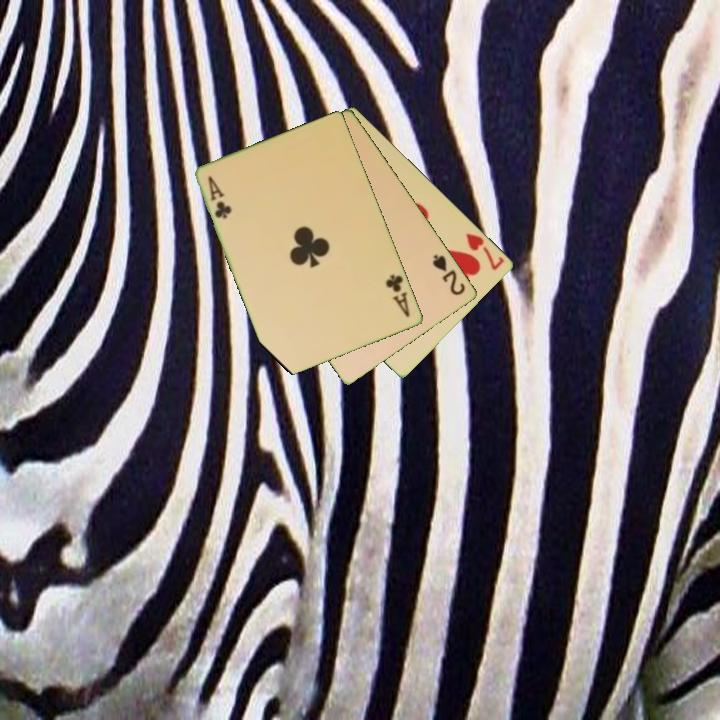2s: (429, 251, 469, 298)
7h: (462, 229, 507, 273)
Ac: (382, 271, 413, 320), (205, 172, 235, 222)
